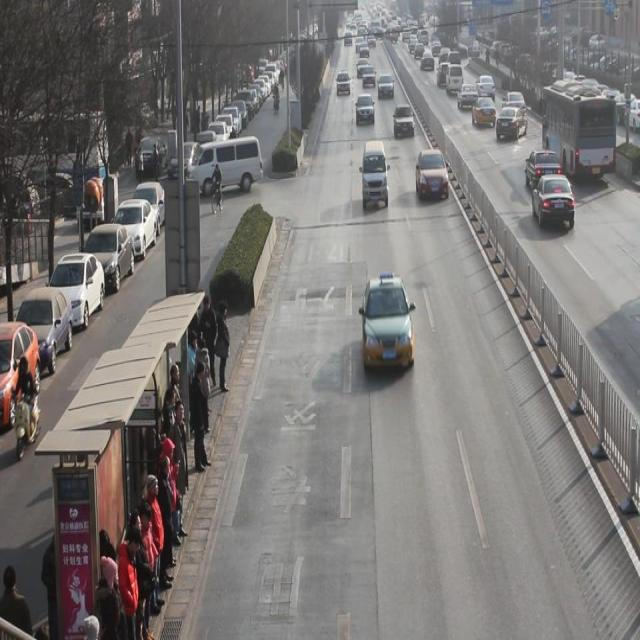car: (364, 276, 416, 370), (533, 173, 576, 229), (416, 150, 451, 202), (526, 149, 563, 197), (497, 106, 529, 142), (502, 90, 528, 122), (472, 96, 498, 128), (394, 104, 416, 139), (356, 93, 376, 126), (476, 74, 497, 103), (458, 83, 480, 110), (378, 73, 396, 101), (437, 63, 454, 89), (336, 70, 352, 96)
truck: (188, 136, 265, 198), (363, 139, 390, 212), (446, 64, 465, 96)
van: (541, 80, 616, 183)
